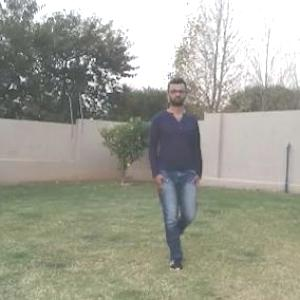follow: (156, 86, 199, 255)
